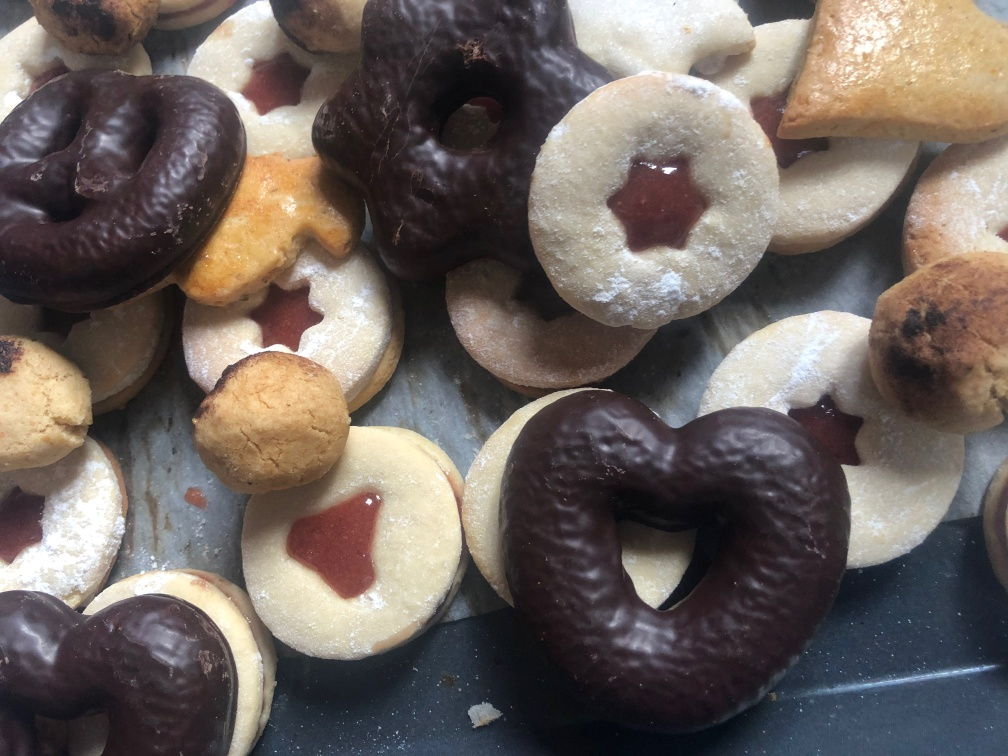bretzel: (1, 64, 246, 308)
christmas shortbread with jam: (528, 69, 772, 329), (245, 422, 461, 666), (181, 260, 417, 404)
heart: (505, 393, 849, 754), (777, 3, 1008, 142)
snowball: (863, 243, 1007, 435), (191, 348, 365, 498), (1, 328, 102, 475)
star: (319, 2, 596, 279)
